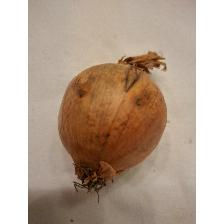Zwiebel: (57, 49, 171, 207)
